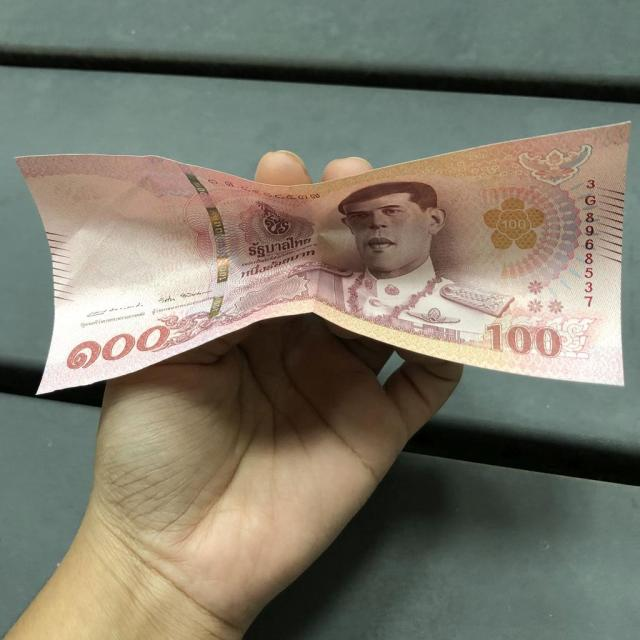THAI100: (16, 122, 629, 394)
